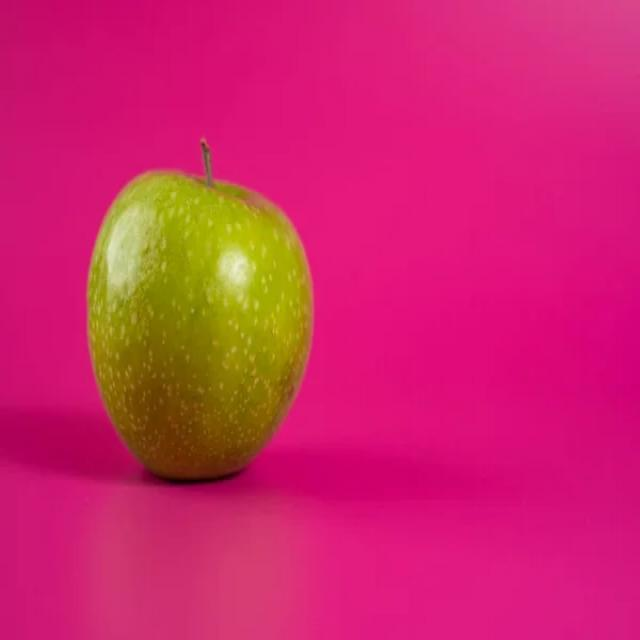Fresh Apple: (76, 160, 316, 493)
